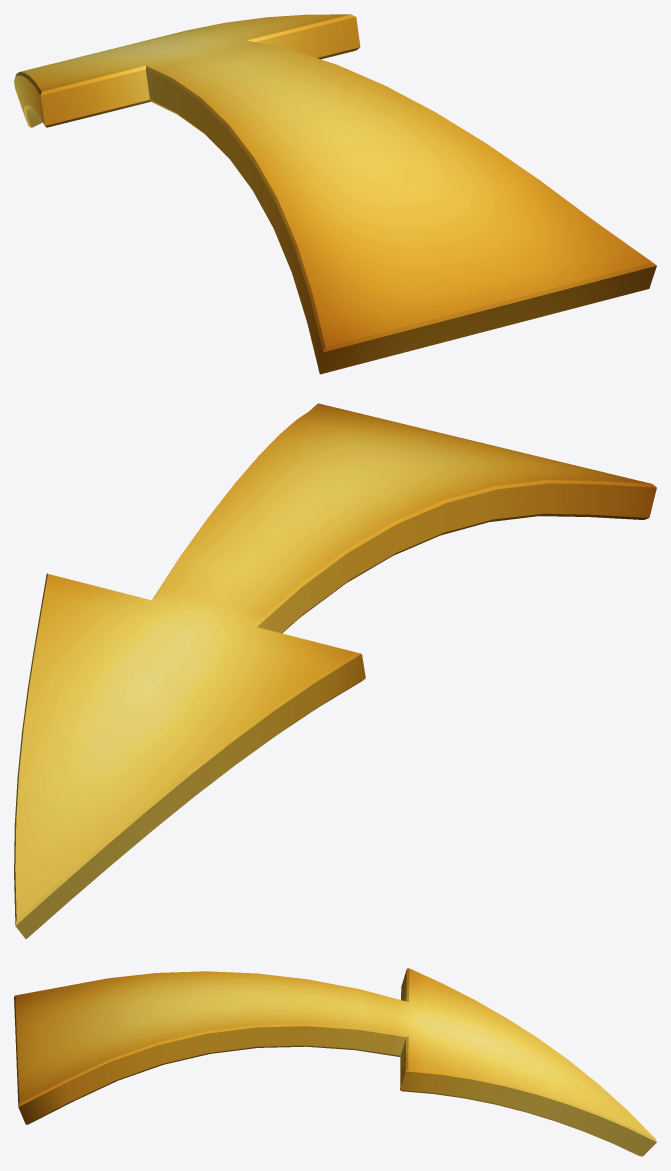
File: ef-e-clickground-E01_2.FBX
3 views of the same model, one above another, from view 1: azimuth 30°, elevation 25°; view 2: azimuth 150°, elevation 25°; view 3: azimuth 270°, elevation 25° (orthographic). The views are drawn at different scales.
Parts seen in each view (by area): view 1: bt_jiantou; view 2: bt_jiantou; view 3: bt_jiantou.
Part boxes in pixels (x1=…): bt_jiantou: x1=14, y1=14, x2=656, y2=374; bt_jiantou: x1=14, y1=403, x2=656, y2=938; bt_jiantou: x1=14, y1=968, x2=656, y2=1156.
Bounding box in the file's own units: 2.6 × 1.7 × 6.32.
